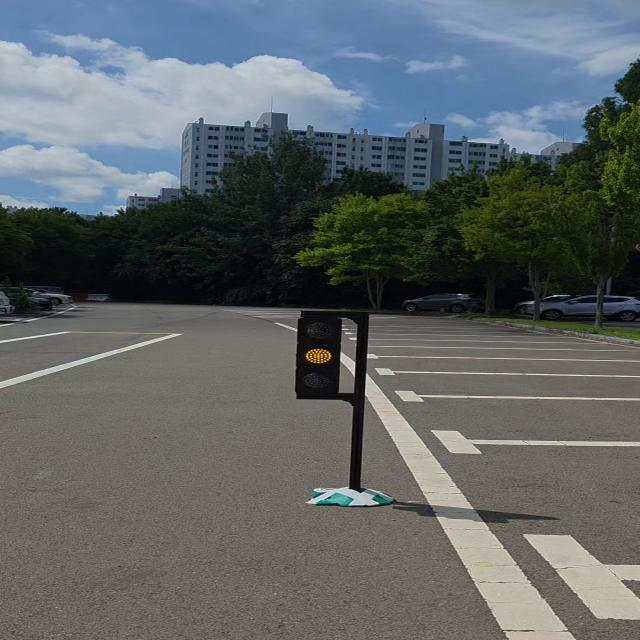yellow: (292, 312, 348, 403)
